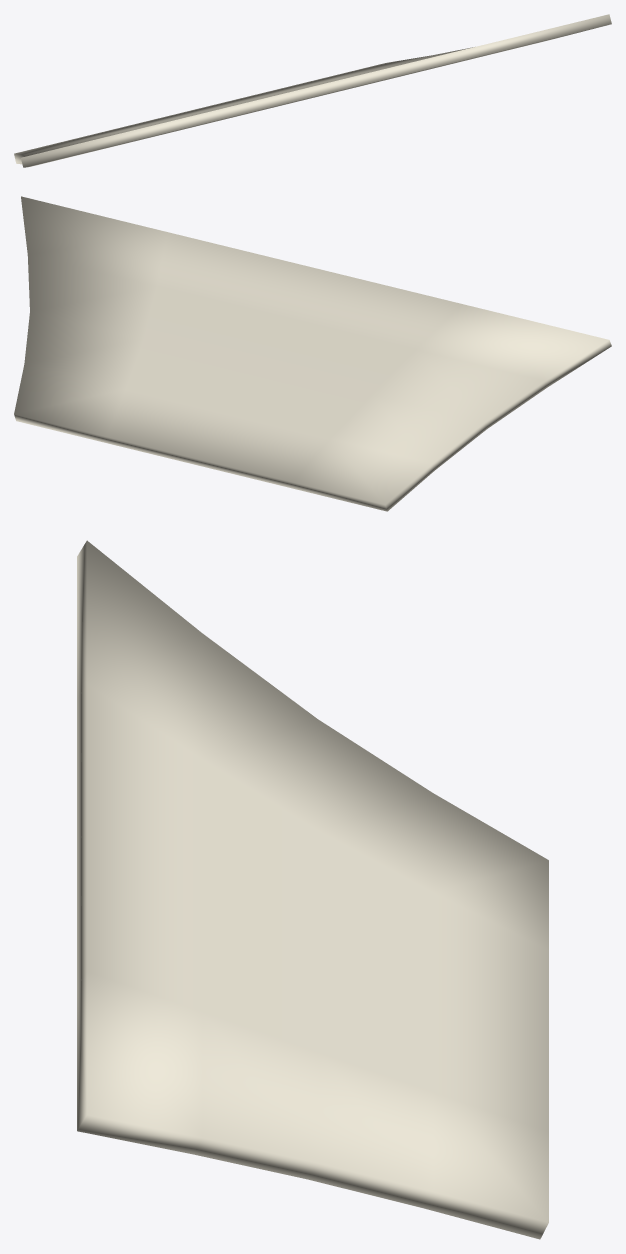
3 views of the same model, one above another, from view 1: azimuth 30°, elevation 25°; view 2: azimuth 150°, elevation 25°; view 3: azimuth 270°, elevation 25° (orthographic). The views are drawn at different scales.
Visible parts, largest first — view 1: ZA_4a0a1d4729c32970; view 2: ZA_4a0a1d4729c32970; view 3: ZA_4a0a1d4729c32970.
Boxes of the visible parts, <box> form: ZA_4a0a1d4729c32970: <box>14,14,611,167</box>; ZA_4a0a1d4729c32970: <box>14,196,611,511</box>; ZA_4a0a1d4729c32970: <box>77,540,548,1239</box>.
Size of the model in its own units: 0.033 by 0.00617 by 0.0114.
